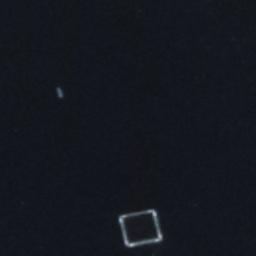square_solid: (117, 205, 166, 249)
